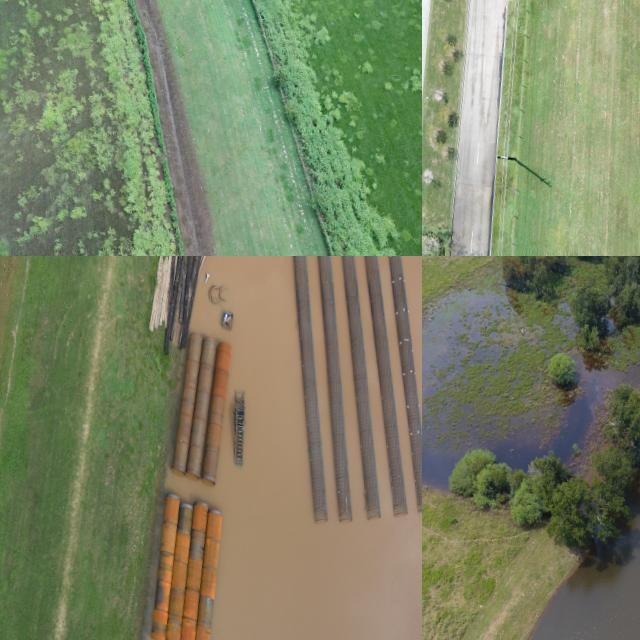fire: (165, 256, 422, 640)
